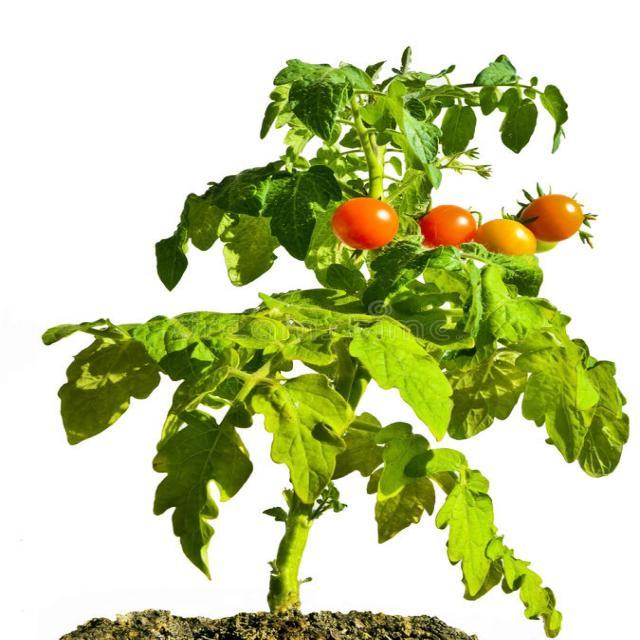tomato: (38, 46, 634, 640)
